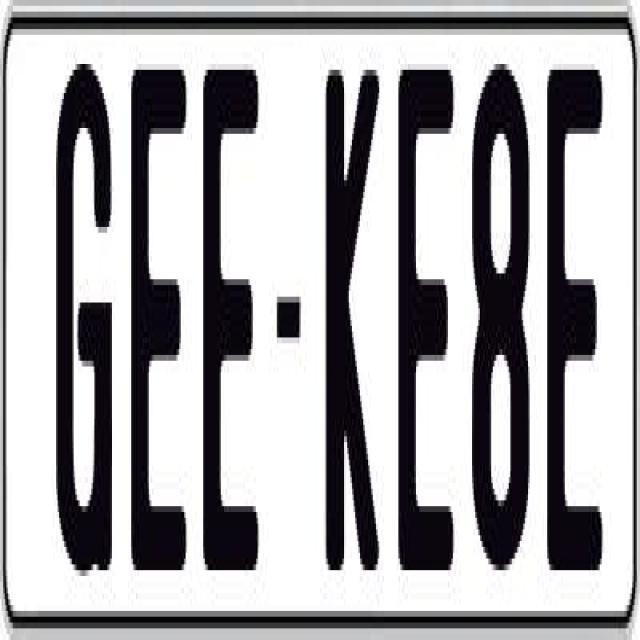8: (468, 52, 530, 564)
E: (130, 64, 192, 582), (394, 58, 454, 588), (200, 52, 258, 588), (544, 58, 603, 570)
G: (51, 52, 114, 594)
K: (326, 64, 379, 594)
